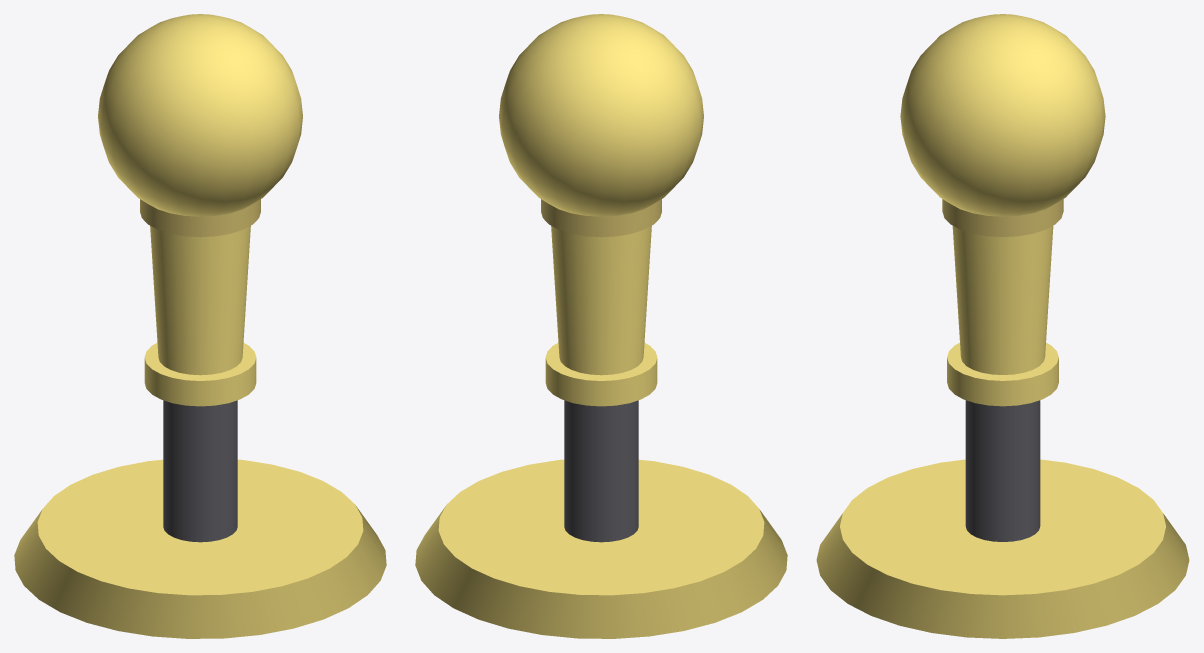
File: golden_microphone.glb
The picture shows the model from 3 angles, left to right: view 1: azimuth 30°, elevation 25°; view 2: azimuth 150°, elevation 25°; view 3: azimuth 270°, elevation 25°; orthographic projection.
Parts seen in each view (by area): view 1: GoldenMicrophone; view 2: GoldenMicrophone; view 3: GoldenMicrophone.
Boxes of the visible parts, box(x1,y1,x2,y2) form: GoldenMicrophone: box(14, 14, 386, 638); GoldenMicrophone: box(415, 14, 787, 638); GoldenMicrophone: box(816, 14, 1189, 638).
Bounding box in the file's own units: 0.8 × 1.27 × 0.8.
